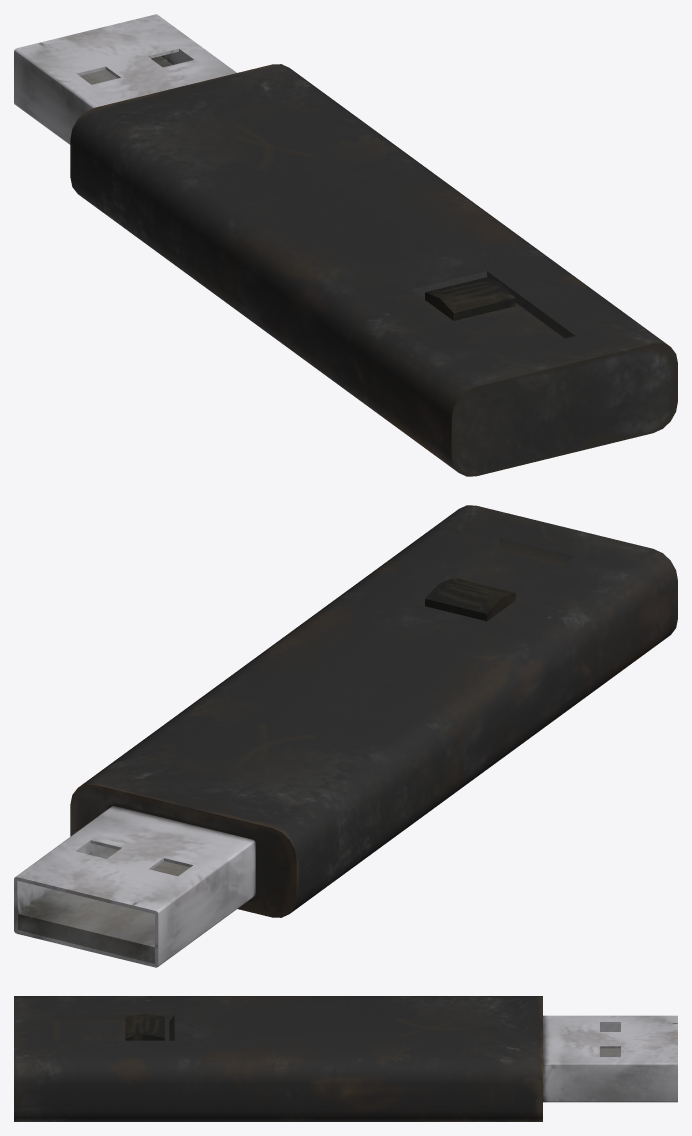
File: usb_key_-_dirty.glb
3 views of the same model, one above another, from view 1: azimuth 30°, elevation 25°; view 2: azimuth 150°, elevation 25°; view 3: azimuth 270°, elevation 25° (orthographic). The views are drawn at different scales.
Parts seen in each view (by area): view 1: Usb Key - TT; view 2: Usb Key - TT; view 3: Usb Key - TT.
Part boxes in pixels (x1,y1,x2,y2): Usb Key - TT: (14, 14, 677, 476); Usb Key - TT: (14, 505, 677, 967); Usb Key - TT: (14, 996, 677, 1121).
Size of the model in its own units: 0.0188 by 0.00755 by 0.0689.
1 material, 1 textured.
